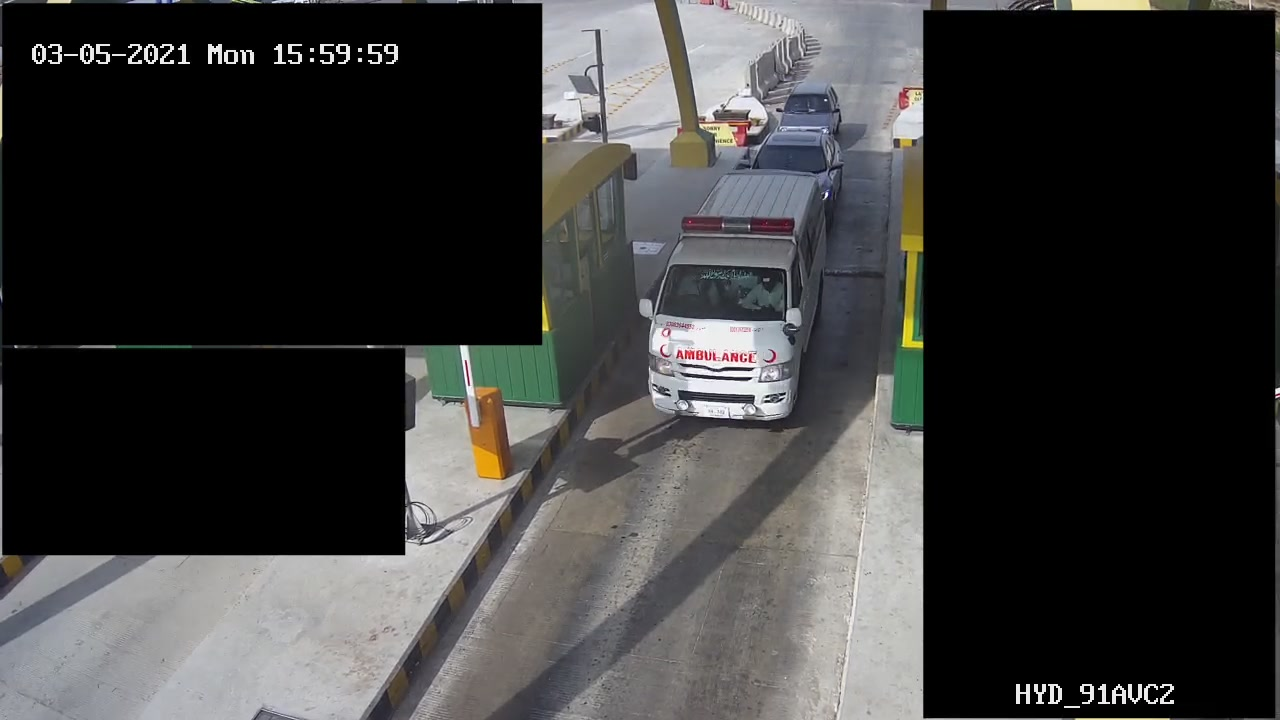F2: (630, 171, 843, 425)
